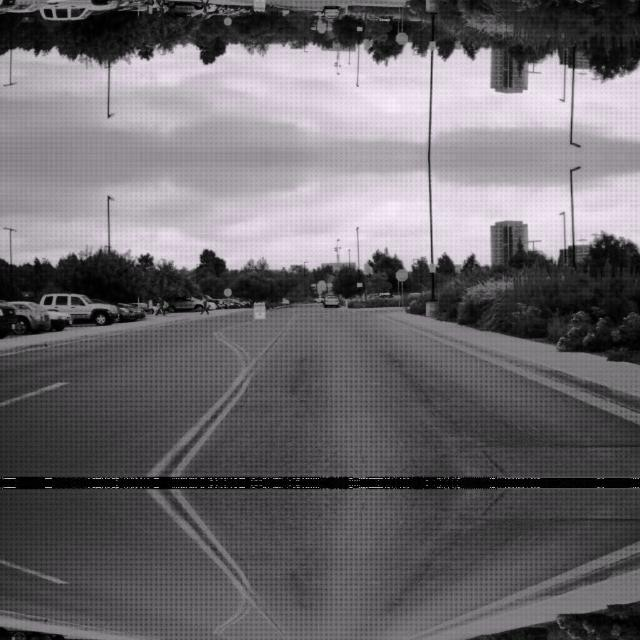stop: (394, 268, 408, 280), (394, 32, 408, 44)
